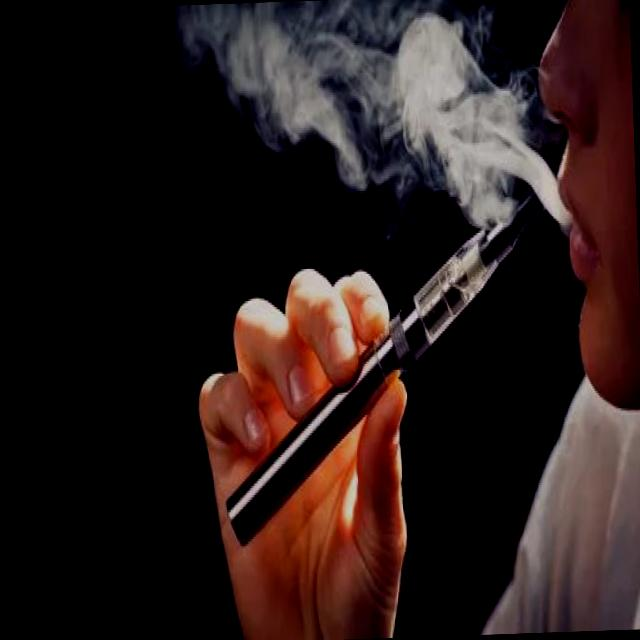cigarette: (216, 161, 564, 553)
